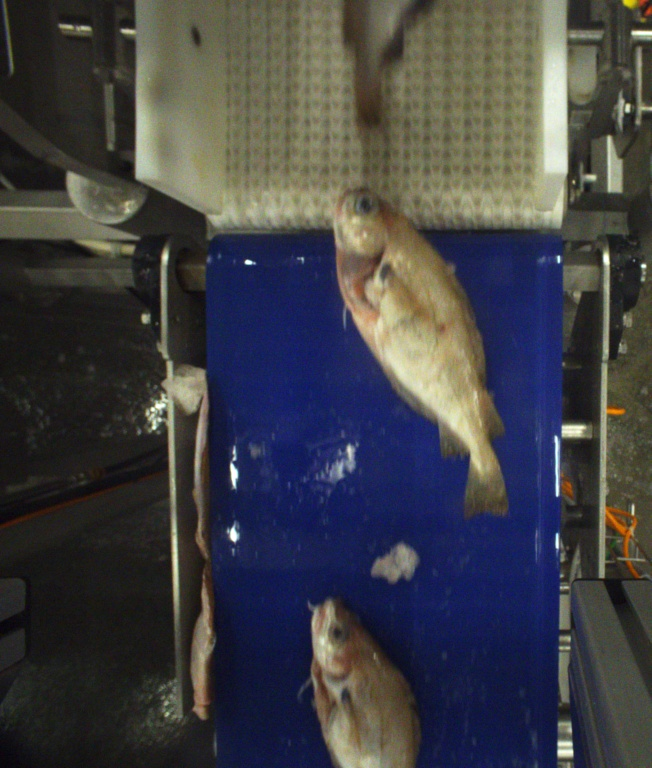BIB: (332, 184, 508, 523)
